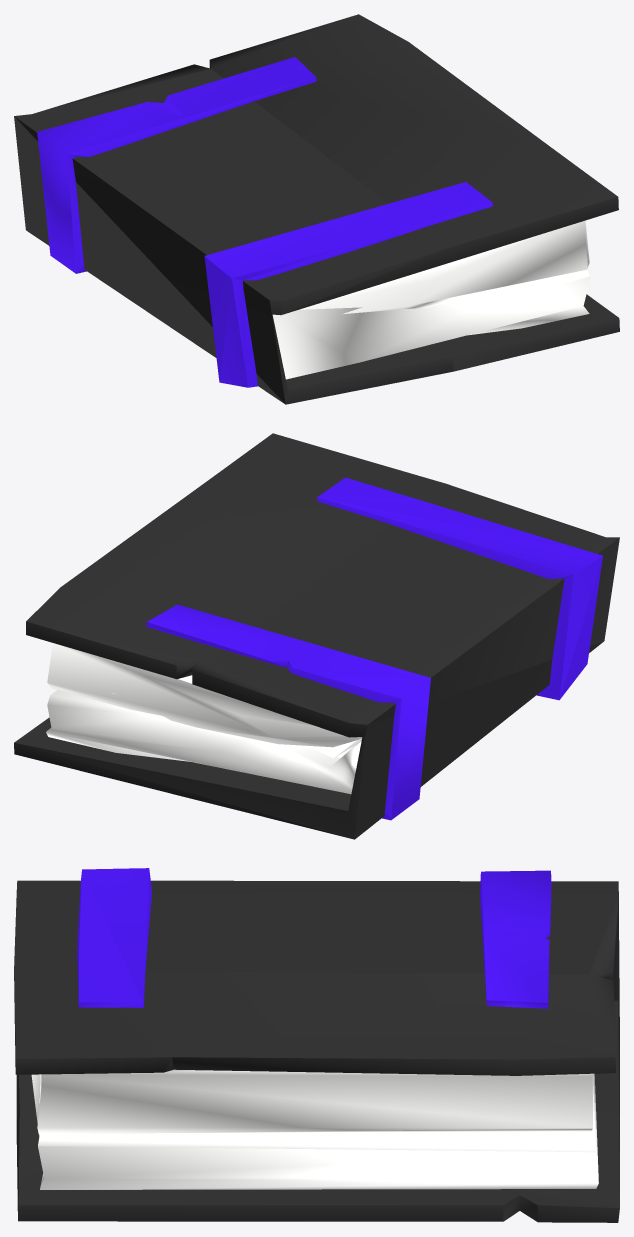
File: CyberPunkGuestBookClosed.007.glb
3 views of the same model, one above another, from view 1: azimuth 30°, elevation 25°; view 2: azimuth 150°, elevation 25°; view 3: azimuth 270°, elevation 25° (orthographic). The views are drawn at different scales.
Visible parts, largest first — view 1: CyberPunkGuestBookClosed.007; view 2: CyberPunkGuestBookClosed.007; view 3: CyberPunkGuestBookClosed.007.
Boxes of the visible parts, x1,y1,x2,y2 form: CyberPunkGuestBookClosed.007: (14,14,619,404); CyberPunkGuestBookClosed.007: (14,433,619,839); CyberPunkGuestBookClosed.007: (14,868,619,1222).
Size of what is drawn, in the model's own units: 0.2654 by 0.1053 by 0.3243.
2 materials, 2 textured.
